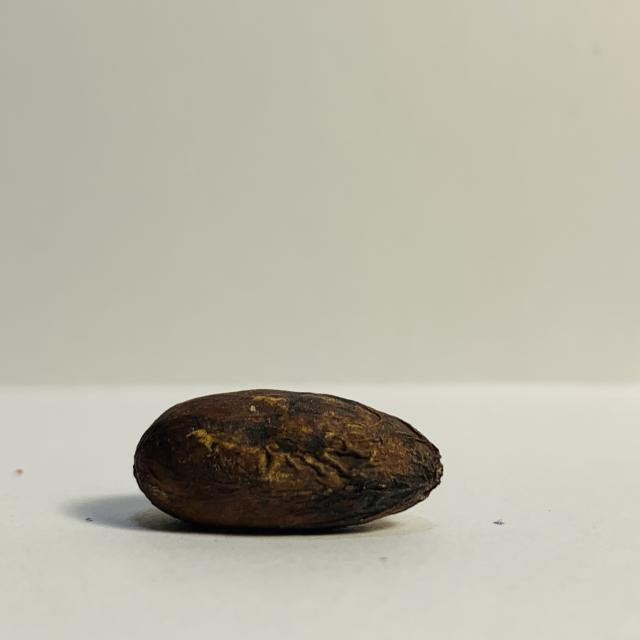Fine_cocoabeans: (29, 362, 491, 584)
